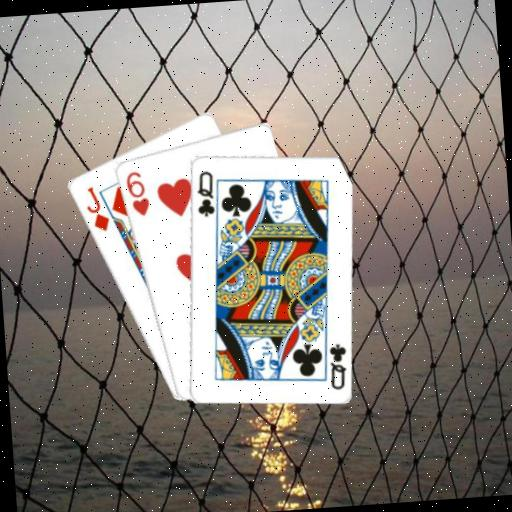6H: (122, 167, 152, 218)
JD: (82, 183, 112, 235)
QC: (192, 167, 217, 219), (325, 340, 350, 392)
